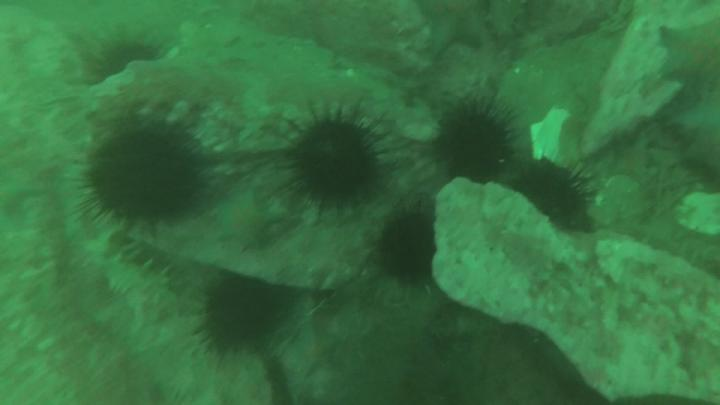echinus: (86, 129, 198, 221), (293, 116, 377, 198), (435, 108, 514, 181), (201, 284, 280, 349), (517, 162, 578, 222), (381, 218, 437, 279)
holothurian: (81, 238, 183, 327)
scallop: (680, 193, 720, 239)
starfish: (214, 192, 284, 249)
